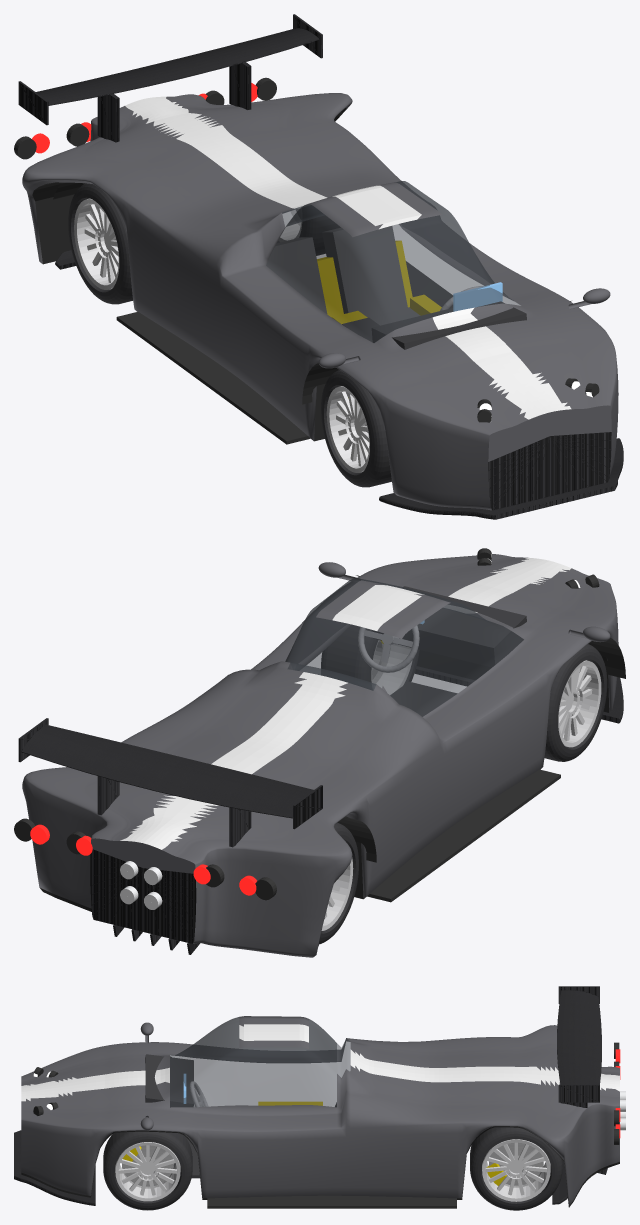
The model's file is pagani-zonda-cinque.glb.
The picture shows the model from 3 angles, top to bottom: view 1: azimuth 30°, elevation 25°; view 2: azimuth 150°, elevation 25°; view 3: azimuth 270°, elevation 25°; orthographic projection. The views are drawn at different scales.
Visible parts, largest first — view 1: Body_PrimaryPaint, Glass_Windows, Carbon_Exterior, Body_SecondaryPaint, Interior_Seats, WheelWells, Tire_FR, Rim_RR, Tire_RR, Rim_FR, Underbody, Interior_SeatBolsters (+4 smaller); view 2: Body_PrimaryPaint, Carbon_Exterior, Glass_Windows, Body_SecondaryPaint, WheelWells, Interior_Dashboard, Rim_FR, Tire_FR, Tire_FL, Lights_Housings, Underbody, Interior_SteeringWheel (+6 smaller); view 3: Body_PrimaryPaint, Glass_Windows, Body_SecondaryPaint, Carbon_Exterior, WheelWells, Tire_FL, Rim_RL, Tire_RL, Rim_FL, Interior_Dashboard, Underbody, BrakeDisc_RL (+2 smaller).
Part boxes in pixels (bbox=[...]): Body_PrimaryPaint: bbox=[22, 93, 618, 510]; Glass_Windows: bbox=[266, 181, 520, 342]; Carbon_Exterior: bbox=[18, 14, 623, 519]; Body_SecondaryPaint: bbox=[125, 96, 571, 419]; Interior_Seats: bbox=[266, 226, 420, 325]; WheelWells: bbox=[53, 182, 571, 444]; Tire_FR: bbox=[321, 370, 391, 487]; Rim_RR: bbox=[74, 198, 119, 289]; Tire_RR: bbox=[68, 183, 132, 304]; Rim_FR: bbox=[326, 386, 369, 472]; Underbody: bbox=[32, 108, 346, 441]; Interior_SeatBolsters: bbox=[317, 240, 441, 323]; Body_PrimaryPaint: bbox=[22, 554, 618, 957]; Carbon_Exterior: bbox=[18, 666, 623, 954]; Glass_Windows: bbox=[285, 578, 523, 716]; Body_SecondaryPaint: bbox=[120, 557, 571, 849]; WheelWells: bbox=[337, 575, 625, 902]; Interior_Dashboard: bbox=[372, 586, 526, 667]; Rim_FR: bbox=[558, 660, 601, 747]; Tire_FR: bbox=[544, 644, 607, 761]; Tire_FL: bbox=[321, 624, 419, 685]; Lights_Housings: bbox=[14, 548, 599, 900]; Underbody: bbox=[39, 650, 609, 943]; Interior_SteeringWheel: bbox=[358, 625, 419, 672]; Body_PrimaryPaint: bbox=[21, 1016, 619, 1205]; Glass_Windows: bbox=[170, 1017, 350, 1107]; Body_SecondaryPaint: bbox=[21, 1024, 619, 1101]; Carbon_Exterior: bbox=[14, 986, 607, 1205]; WheelWells: bbox=[207, 1195, 456, 1208]; Tire_FL: bbox=[103, 1131, 192, 1210]; Rim_RL: bbox=[482, 1139, 550, 1201]; Tire_RL: bbox=[470, 1127, 562, 1210]; Rim_FL: bbox=[115, 1142, 180, 1201]; Interior_Dashboard: bbox=[145, 1054, 193, 1107]; Underbody: bbox=[21, 1126, 619, 1207]; BrakeDisc_RL: bbox=[489, 1142, 543, 1187].
Size of the model in its own units: 2.06 by 1.14 by 4.54.
Materials: 17 (2 with a texture image).
